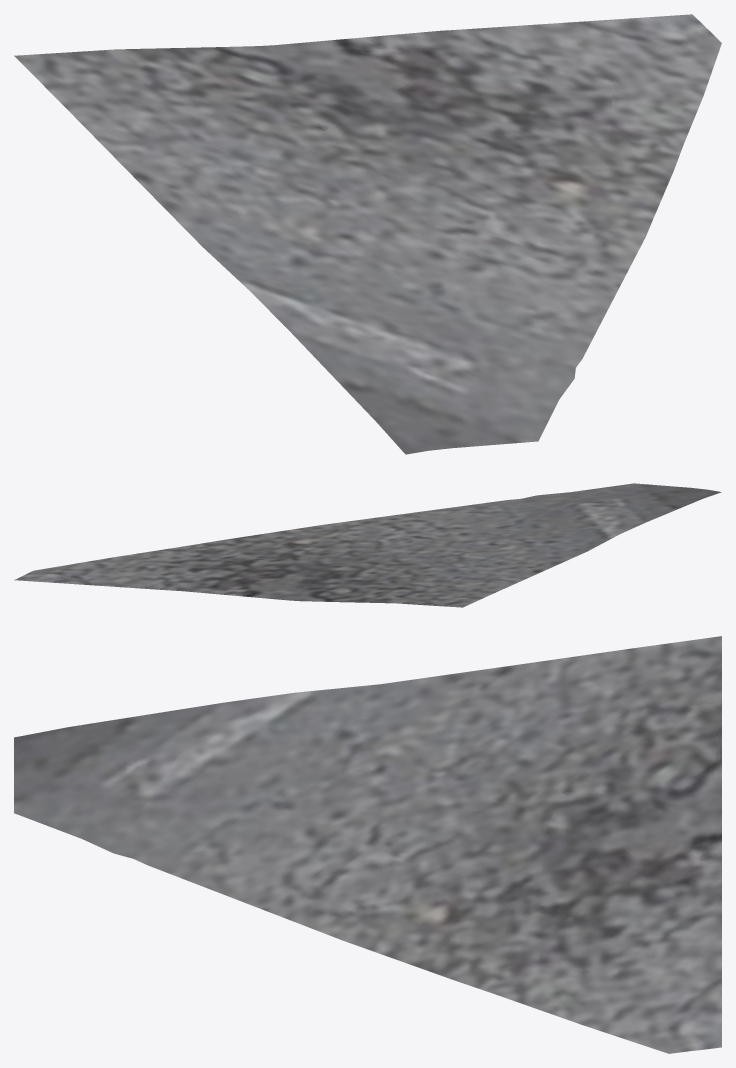
The picture shows the model from 3 angles, top to bottom: view 1: azimuth 30°, elevation 25°; view 2: azimuth 150°, elevation 25°; view 3: azimuth 270°, elevation 25°; orthographic projection. The views are drawn at different scales.
Size of the model in its own units: 1.67 by 0.3097 by 1.67.
Materials: 2 (2 with a texture image).
